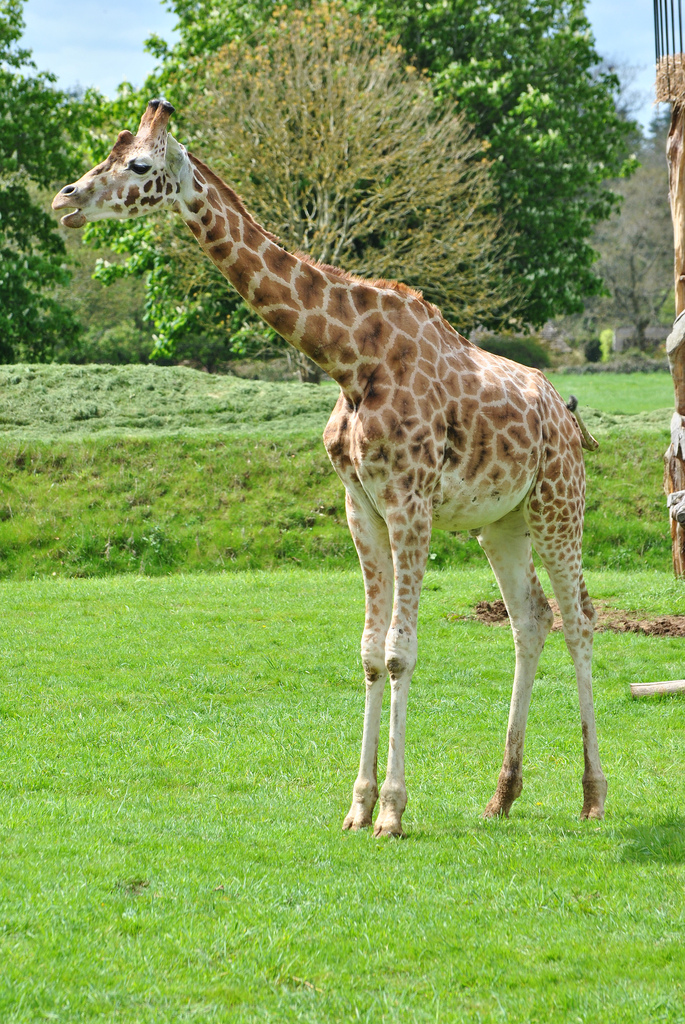giraffe: (82, 119, 628, 837)
